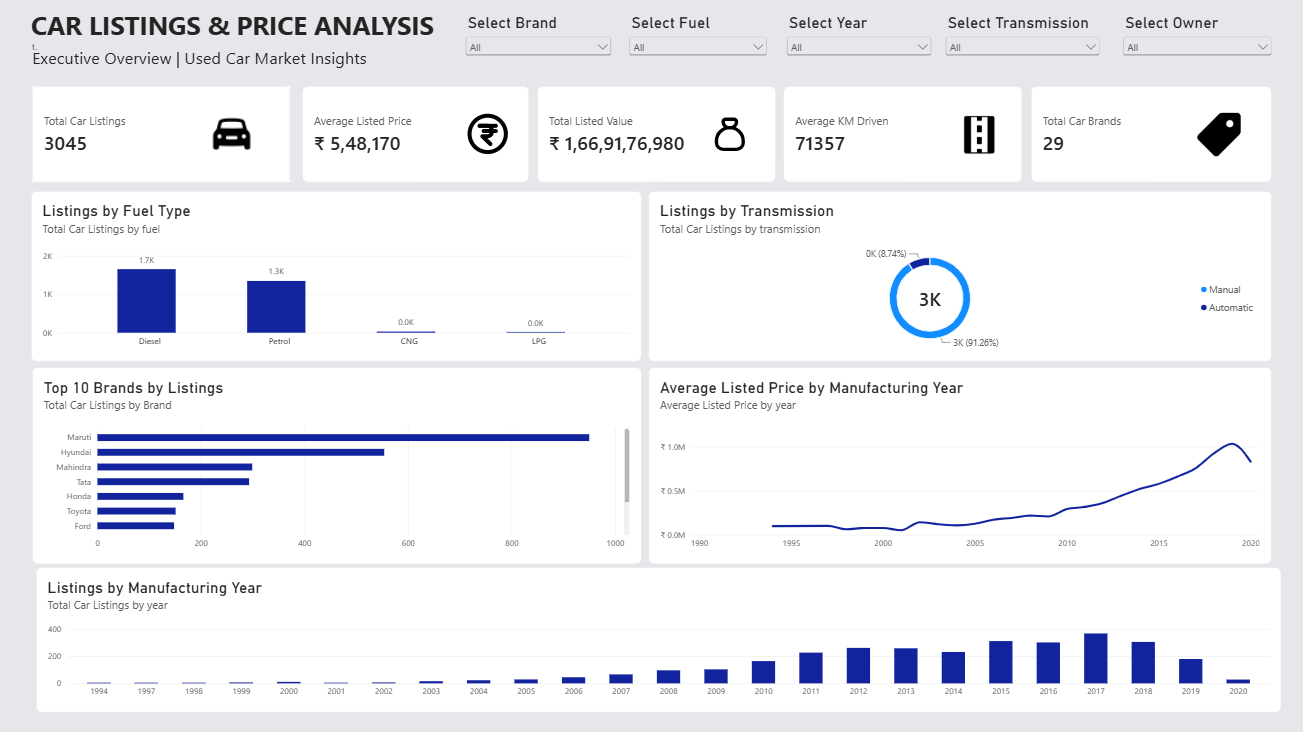

The page's visual inventory and layout, read from the dashboard file:
{"tool":"powerbi","page":{"name":"Car Listings & Price Analysis","canvas":[1920,1080],"ordinal":0},"visuals":[{"type":"cardVisual","fields":{"Data":["car_sales_db car_sales.Total Car Listings"]},"box":[60,131.1,375,140],"z":0},{"type":"cardVisual","fields":{"Data":["car_sales_db car_sales.Average Listed Price"]},"box":[452,131.1,330,140],"z":1000},{"type":"cardVisual","fields":{"Data":["car_sales_db car_sales.Total Listed Value"]},"box":[794,131.1,347,140],"z":2000},{"type":"cardVisual","fields":{"Data":["car_sales_db car_sales.Average KM Driven"]},"box":[1152,131.1,347,140],"z":3000},{"type":"cardVisual","fields":{"Data":["car_sales_db car_sales.Total Car Brands"]},"box":[1513.3,131.1,350,140],"z":4000},{"type":"clusteredColumnChart","title":"Listings by Fuel Type","fields":{"Category":["car_sales_db car_sales.fuel"],"Y":["car_sales_db car_sales.Total Car Listings"]},"box":[58.3,283.3,888.3,248.3],"z":5000},{"type":"donutChart","title":"Listings by Transmission","fields":{"Category":["car_sales_db car_sales.transmission"],"Y":["car_sales_db car_sales.Total Car Listings"]},"box":[956,284,906,248],"z":6000},{"type":"clusteredBarChart","title":"Top 10 Brands by Listings","fields":{"Category":["car_sales_db car_sales.Brand"],"Y":["car_sales_db car_sales.Total Car Listings"]},"box":[60,540,886,286],"z":7000},{"type":"clusteredColumnChart","title":"Listings by Manufacturing Year","fields":{"Category":["car_sales_db car_sales.year"],"Y":["car_sales_db car_sales.Total Car Listings"]},"box":[64.8,831.5,1811.1,211.1],"z":8000},{"type":"lineChart","title":"Average Listed Price by Manufacturing Year","fields":{"Category":["car_sales_db car_sales.year"],"Y":["car_sales_db car_sales.Average Listed Price"]},"box":[956,540,906,286],"z":9000},{"type":"textbox","box":[58,16,660,70],"z":10000},{"type":"textbox","box":[60,72,658,58],"z":11000},{"type":"slicer","fields":{"Values":["car_sales_db car_sales.Brand"]},"box":[686,26,222,92],"z":12000},{"type":"slicer","fields":{"Values":["car_sales_db car_sales.fuel"]},"box":[924,26,210,92],"z":13000},{"type":"slicer","fields":{"Values":["car_sales_db car_sales.year"]},"box":[1152,26,220,104],"z":14000},{"type":"slicer","fields":{"Values":["car_sales_db car_sales.transmission"]},"box":[1384,26,234,104],"z":15000},{"type":"slicer","fields":{"Values":["car_sales_db car_sales.owner"]},"box":[1642,26,226,92],"z":16000},{"type":"image","box":[310,156.1,78.3,90],"z":17000},{"type":"image","box":[686.7,138.6,70,125],"z":18000},{"type":"image","box":[1045,132.8,58.3,136.7],"z":19000},{"type":"image","box":[1408.3,157.8,56.7,86.7],"z":21000},{"type":"image","box":[1755,156.1,63.3,90],"z":22000}]}

Visuals, with their boxes in screenshot pixels (x1, y1, x2, y2), scaled from the page's 1920x1080 canvas onto the 1303x732 screenshot:
cardVisual - car_sales_db car_sales.Total Car Listings: detection(41, 89, 295, 184)
cardVisual - car_sales_db car_sales.Average Listed Price: detection(307, 89, 531, 184)
cardVisual - car_sales_db car_sales.Total Listed Value: detection(539, 89, 774, 184)
cardVisual - car_sales_db car_sales.Average KM Driven: detection(782, 89, 1017, 184)
cardVisual - car_sales_db car_sales.Total Car Brands: detection(1027, 89, 1265, 184)
"Listings by Fuel Type" clusteredColumnChart: detection(40, 192, 642, 360)
"Listings by Transmission" donutChart: detection(649, 192, 1264, 361)
"Top 10 Brands by Listings" clusteredBarChart: detection(41, 366, 642, 560)
"Listings by Manufacturing Year" clusteredColumnChart: detection(44, 564, 1273, 707)
"Average Listed Price by Manufacturing Year" lineChart: detection(649, 366, 1264, 560)
textbox: detection(39, 11, 487, 58)
textbox: detection(41, 49, 487, 88)
slicer - car_sales_db car_sales.Brand: detection(466, 18, 616, 80)
slicer - car_sales_db car_sales.fuel: detection(627, 18, 770, 80)
slicer - car_sales_db car_sales.year: detection(782, 18, 931, 88)
slicer - car_sales_db car_sales.transmission: detection(939, 18, 1098, 88)
slicer - car_sales_db car_sales.owner: detection(1114, 18, 1268, 80)
image: detection(210, 106, 264, 167)
image: detection(466, 94, 514, 179)
image: detection(709, 90, 749, 183)
image: detection(956, 107, 994, 166)
image: detection(1191, 106, 1234, 167)
